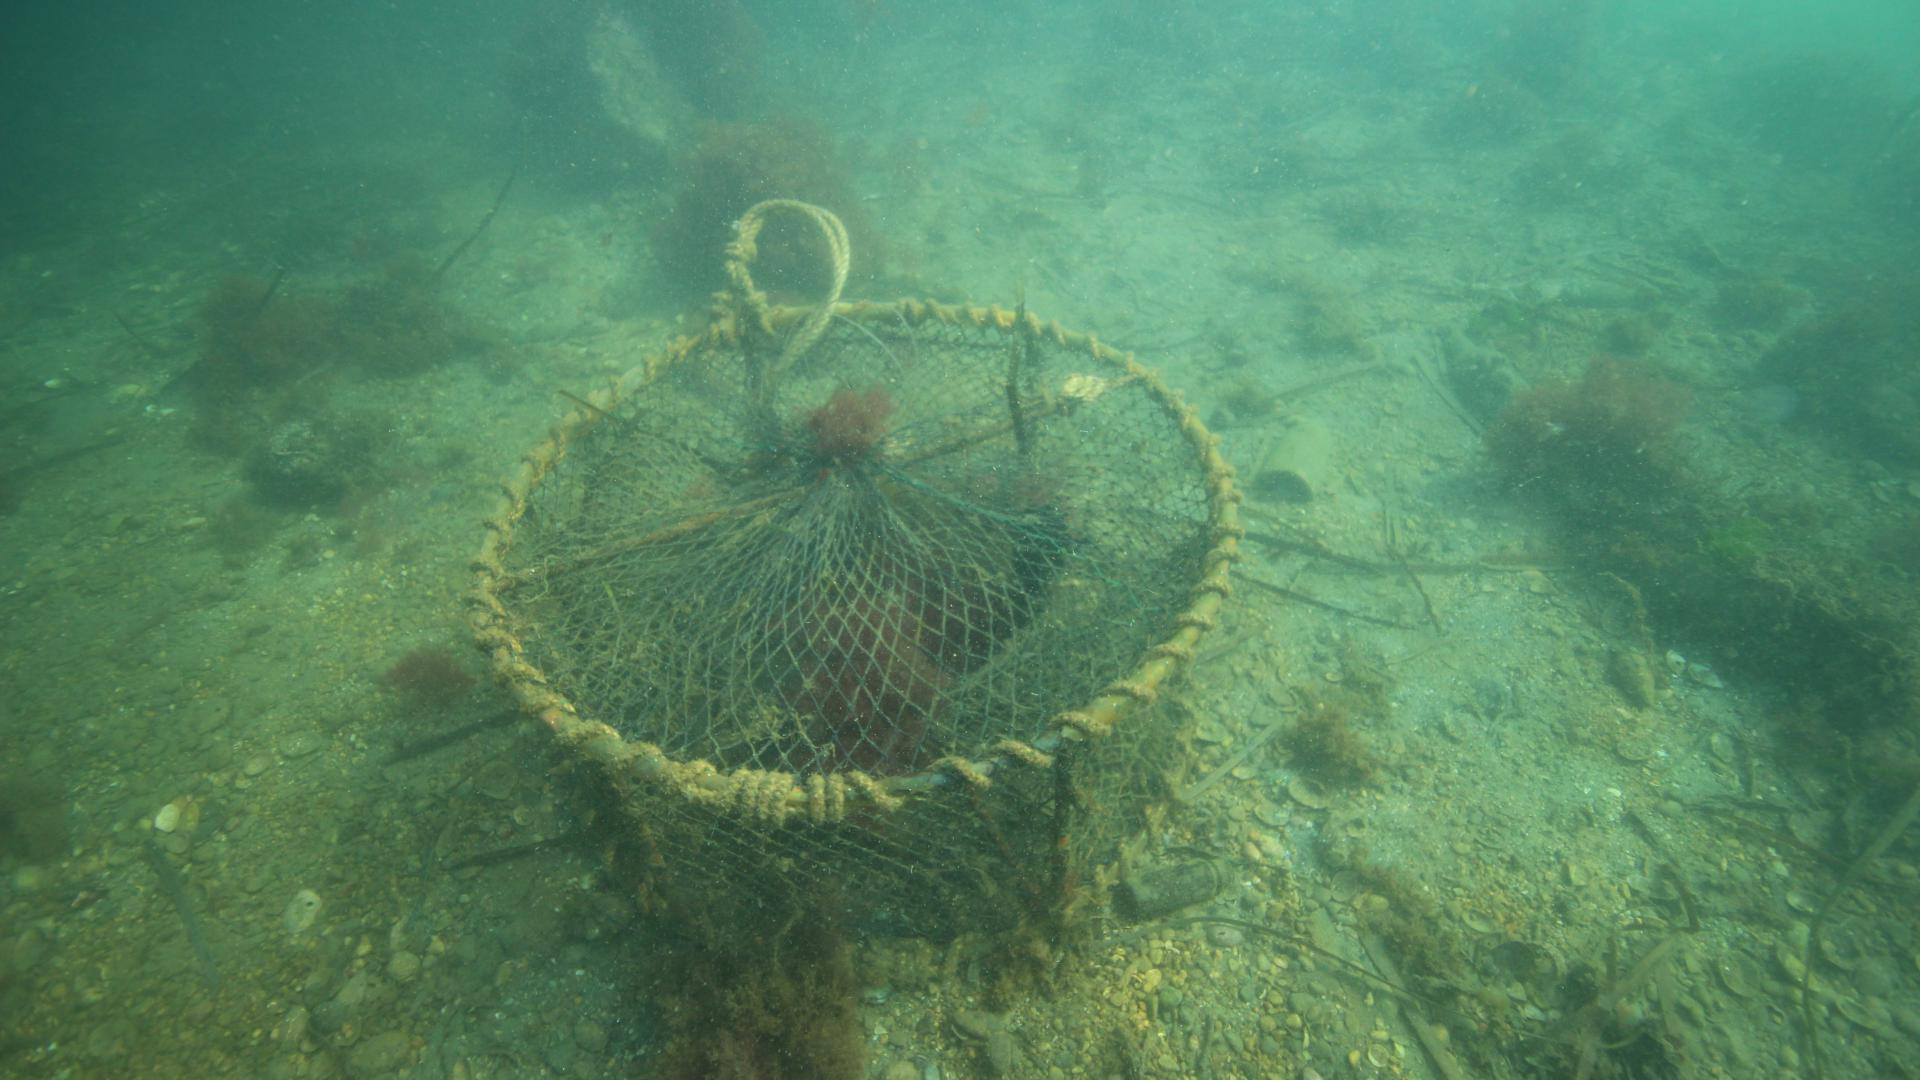bundle of ropes: (717, 194, 853, 371)
circular fish trap: (462, 298, 1245, 993)
